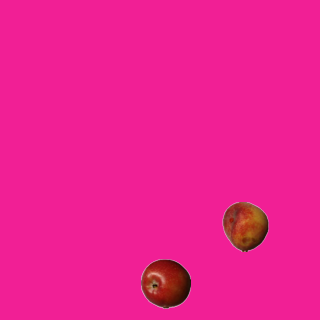Apple Braeburn: (140, 258, 190, 308)
Peach: (220, 201, 270, 251)
